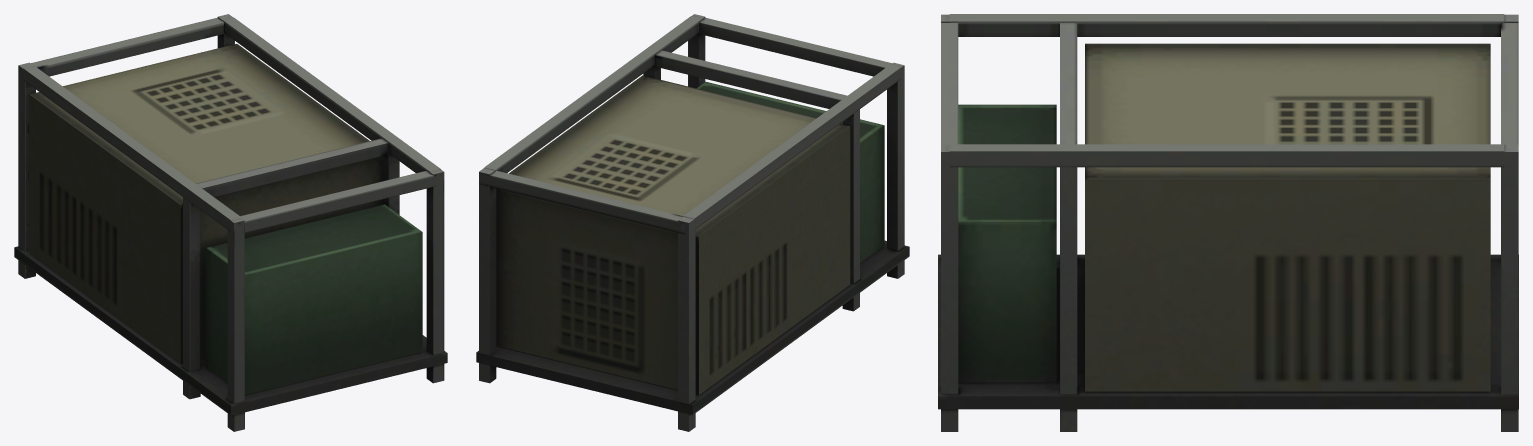
Rendered from TWPS.DAE.
3 views of the same model, side by side, from view 1: azimuth 30°, elevation 25°; view 2: azimuth 150°, elevation 25°; view 3: azimuth 270°, elevation 25° (orthographic). The views are drawn at different scales.
Parts seen in each view (by area): view 1: _1139_TWPS; view 2: _1139_TWPS; view 3: _1139_TWPS.
Boxes of the visible parts, x1,y1,x2,y2 form: _1139_TWPS: (14,14,447,431); _1139_TWPS: (476,14,909,431); _1139_TWPS: (938,14,1518,431).
Bounding box in the file's own units: 76.9 × 71.07 × 133.
1 material, 1 textured.
